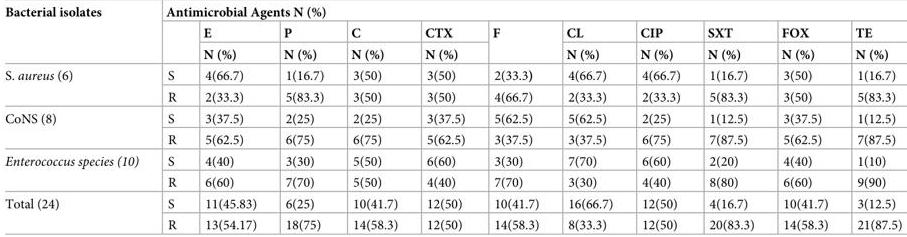table: (4, 5, 901, 232)
table column: (4, 5, 151, 232), (189, 5, 269, 232), (337, 5, 411, 232), (478, 5, 552, 232), (552, 5, 626, 232), (693, 5, 767, 232), (767, 5, 841, 232), (269, 5, 337, 232), (411, 5, 478, 232), (626, 5, 693, 232), (841, 5, 901, 232), (151, 5, 189, 232)
table column header: (4, 5, 901, 64)
table row: (4, 22, 901, 64), (4, 149, 901, 172), (4, 64, 901, 86), (4, 86, 901, 108), (4, 108, 901, 129), (4, 172, 901, 193), (4, 193, 901, 214), (4, 129, 901, 149), (4, 214, 901, 232), (4, 5, 901, 22)
table spanning cell: (151, 5, 901, 22), (4, 5, 151, 64), (4, 64, 151, 108), (4, 149, 151, 193), (4, 108, 151, 149), (4, 193, 151, 232)
